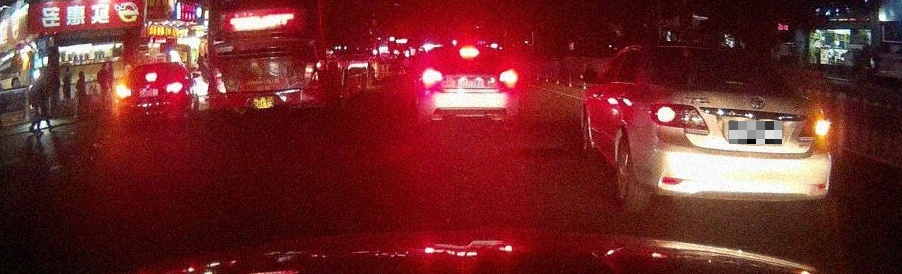L_light: (648, 103, 711, 136), (422, 67, 443, 89), (117, 87, 131, 99)
R_light: (797, 116, 831, 141), (499, 69, 518, 89), (166, 81, 183, 94)
T_light: (459, 46, 479, 59), (145, 72, 157, 82), (724, 80, 745, 85)
night-brake: (420, 45, 519, 121)
night-left: (117, 62, 186, 126)
night-right: (643, 44, 832, 214)
plate_1: (729, 121, 782, 144)
